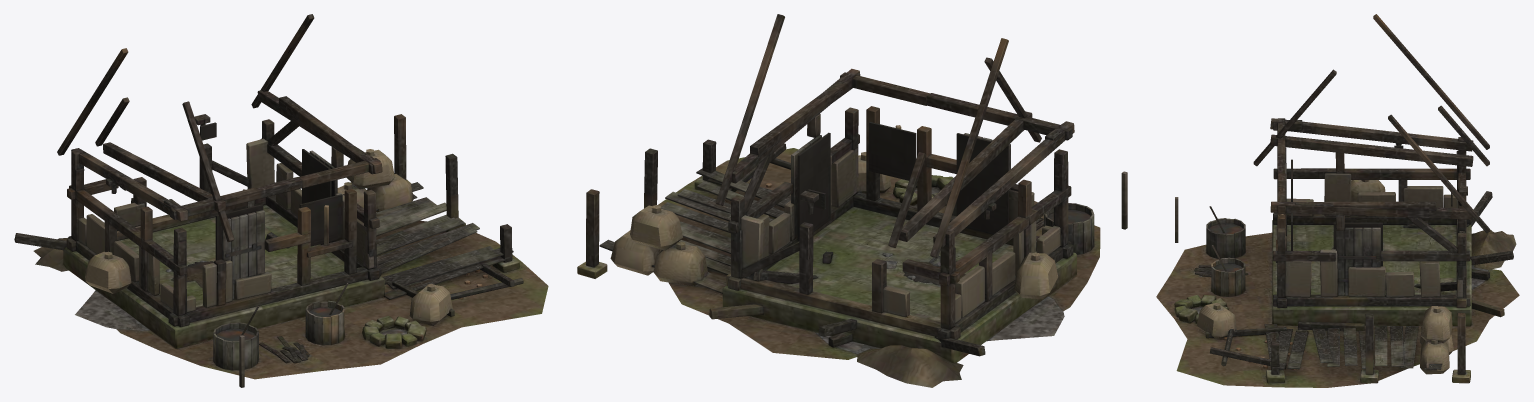
The model's file is weaver_ruin.glb.
3 renders of one model, left to right at view 1: azimuth 30°, elevation 25°; view 2: azimuth 150°, elevation 25°; view 3: azimuth 270°, elevation 25°, orthographic. The views are drawn at different scales.
Visible parts, largest first — view 1: weaver_ruin_LOD0; view 2: weaver_ruin_LOD0; view 3: weaver_ruin_LOD0.
Part boxes in pixels (bbox=[...]): weaver_ruin_LOD0: bbox=[14, 14, 548, 387]; weaver_ruin_LOD0: bbox=[577, 14, 1127, 387]; weaver_ruin_LOD0: bbox=[1156, 14, 1519, 387].
Size of what is drawn, in the model's own units: 8.85 by 5.54 by 8.11.
Materials: 1 (1 with a texture image).
